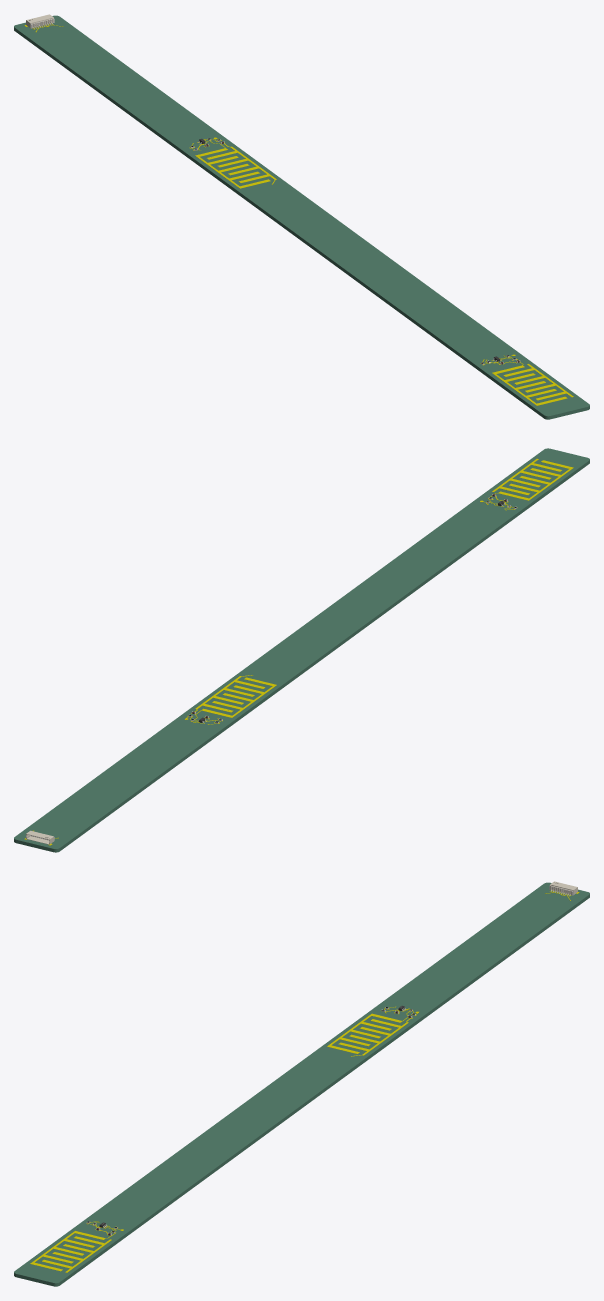
File: gaiapus-probe.glb
3 renders of one model, top to bottom at view 1: azimuth 30°, elevation 25°; view 2: azimuth 150°, elevation 25°; view 3: azimuth 330°, elevation 25°, orthographic.
Visible parts, largest first — view 1: =>[0:1:1:528]; view 2: =>[0:1:1:528]; view 3: =>[0:1:1:528].
Part boxes in pixels (x1,y1,x2,y2): =>[0:1:1:528]: [14, 15, 589, 419]; =>[0:1:1:528]: [14, 448, 589, 852]; =>[0:1:1:528]: [14, 882, 589, 1286].
Size of the model in its own units: 0.022 by 0.00413 by 0.45.
